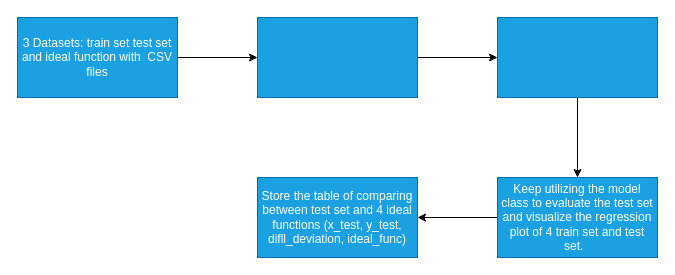
Some shapes in this 675 by 275 pixel diagram are drawn without their labels. The shapes that lost their labels are listed below. From the top down, each one's centre as x and y in pixels, then its label:
At point (337, 57): "Build SQLite Database via DataLoader class to store data in there".
At point (577, 57): "Create Model Class: LinearRegressionModel to find the best 4 ideal functions".
